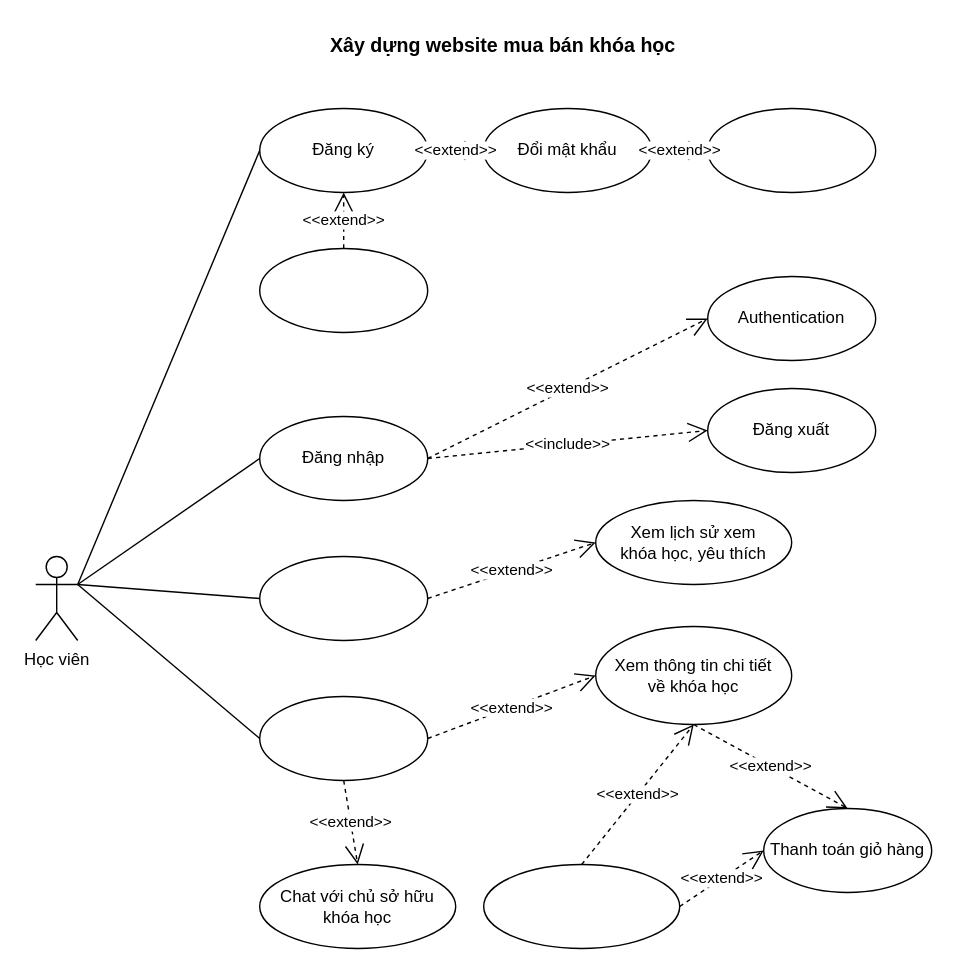
Image size: 956x973. Some labels were removed from this diagram. The centre of each missing label's shape, as x and y in pixels:
Khám phá khóa học: (343,737)
Quản lý khóa học: (343,597)
Quản lý tài khoản: (791,149)
Quản mật khẩu: (343,289)
Thêm khóa học vào giỏ hàng: (581,905)
